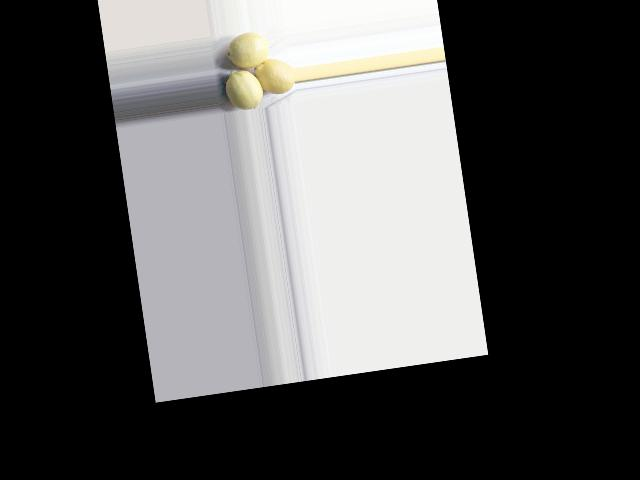lemon: (222, 29, 271, 68)
